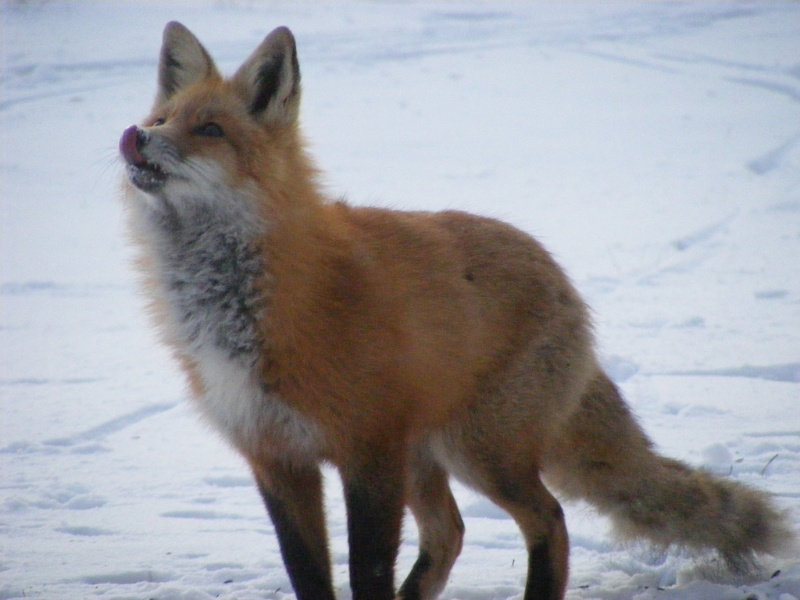fox: (120, 19, 783, 600)
